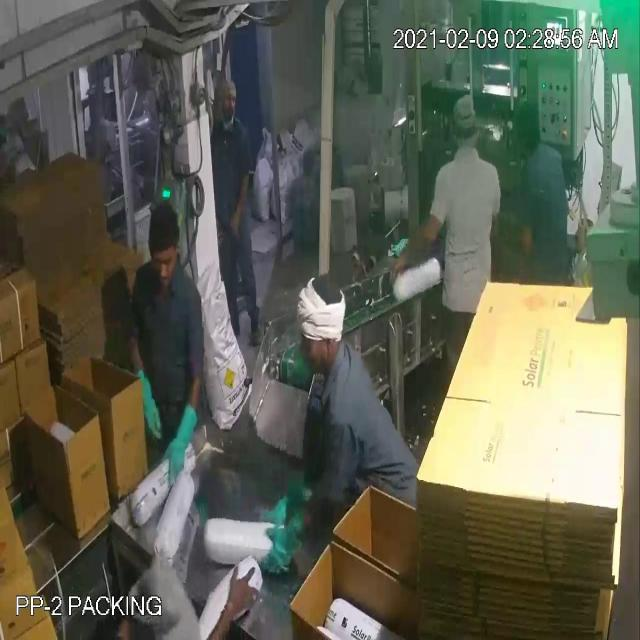gloves: (251, 515, 319, 592), (124, 359, 174, 445), (158, 393, 199, 481)
no-gloves: (206, 550, 258, 640), (382, 213, 442, 270), (223, 170, 258, 237)
